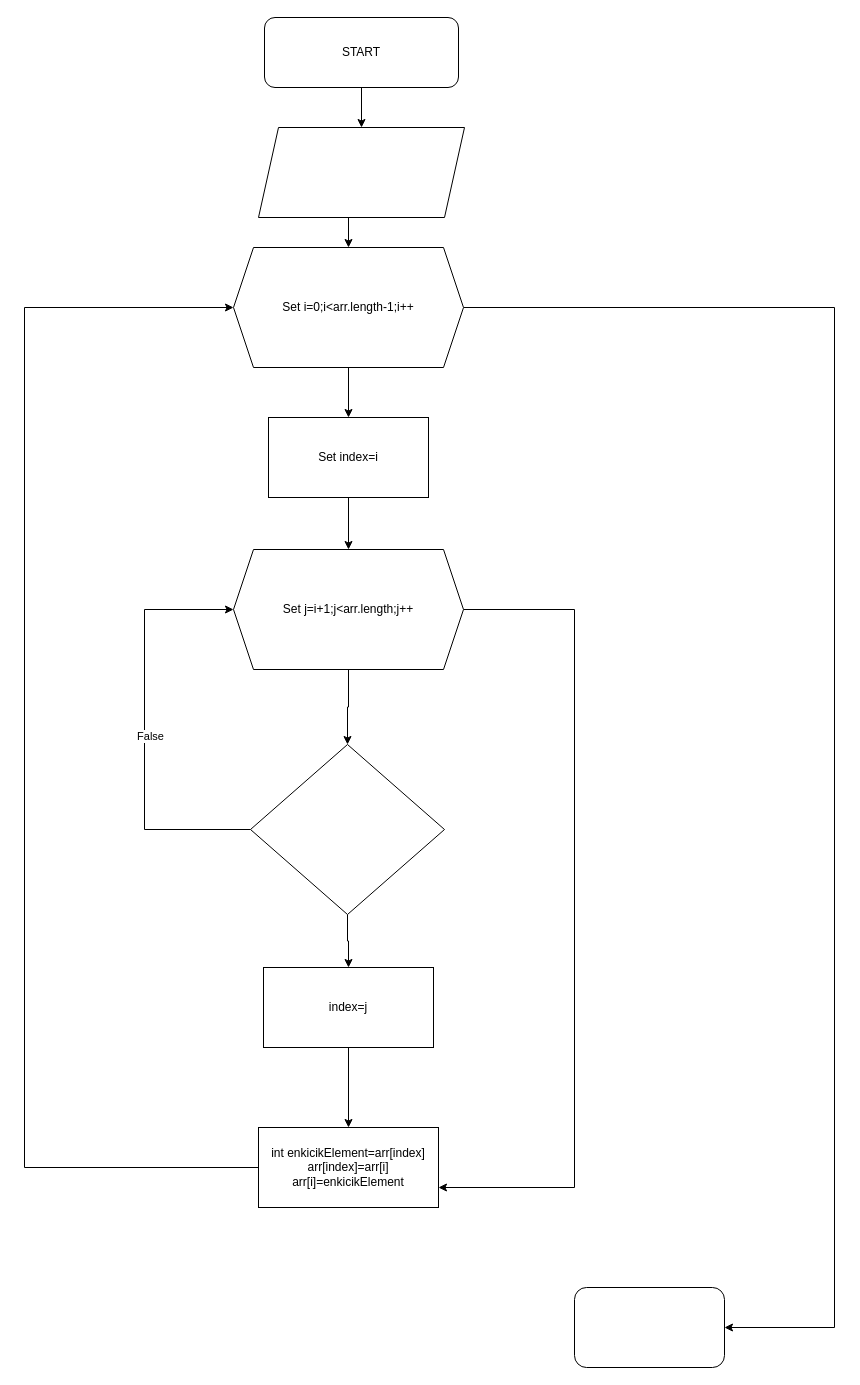
This 860x1385 diagram has some shape labels left out. The shapes that lost their labels are listed below. From the top down, each one's centre as x and y in pixels, then its label:
At point (361, 172): "Arr=[11,4,35,21,17]".
At point (347, 829): "arr[j]<arr[index]".
At point (649, 1327): "END".
